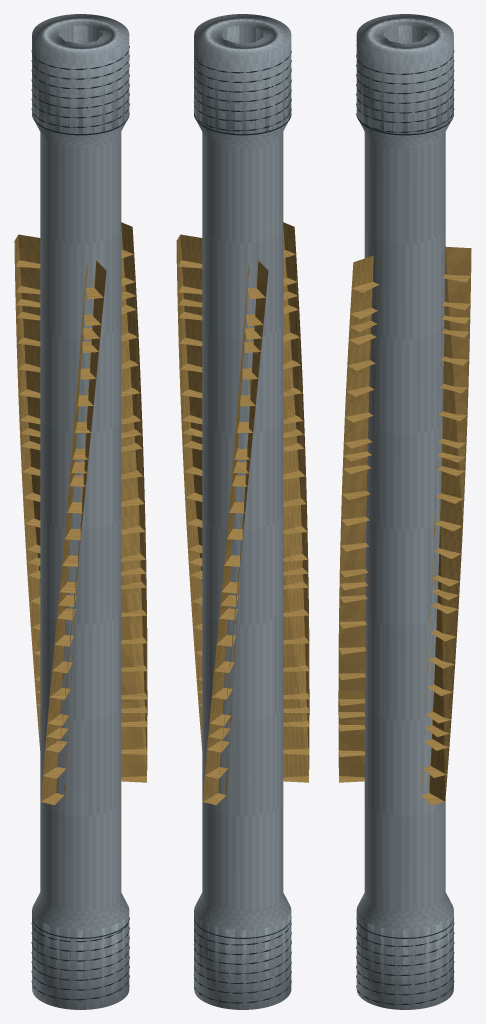
File: stabilizer.glb
The picture shows the model from 3 angles, left to right: view 1: azimuth 90°, elevation 25°; view 2: azimuth 210°, elevation 25°; view 3: azimuth 270°, elevation 25°; orthographic projection.
Visible parts, largest first — view 1: tool-housing (×3), stabilizer-blades (×3), uphole-connection (×3), downhole-connection (×3); view 2: tool-housing (×3), stabilizer-blades (×3), uphole-connection (×3), downhole-connection (×3); view 3: tool-housing (×3), stabilizer-blades (×3), downhole-connection (×3), uphole-connection (×3).
Boxes of the visible parts, box(x1,y1,x2,y2) form: tool-housing (×3): box(32, 14, 129, 1009); stabilizer-blades (×3): box(14, 222, 147, 804); uphole-connection (×3): box(31, 34, 129, 135); downhole-connection (×3): box(31, 910, 129, 1009); tool-housing (×3): box(194, 14, 291, 1009); stabilizer-blades (×3): box(176, 222, 309, 805); uphole-connection (×3): box(193, 35, 291, 135); downhole-connection (×3): box(193, 910, 291, 1009); tool-housing (×3): box(356, 14, 453, 1009); stabilizer-blades (×3): box(338, 246, 471, 805); downhole-connection (×3): box(356, 910, 454, 1009); uphole-connection (×3): box(356, 34, 454, 135).
Size of the model in its own units: 0.146 by 1.2 by 0.1515.
Materials: 3 (3 with a texture image).
